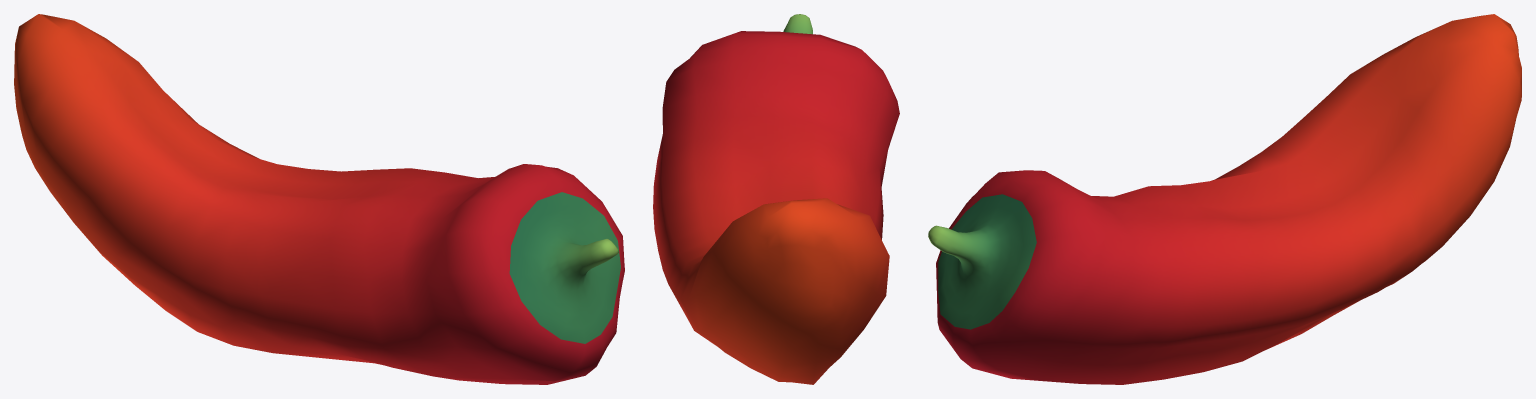
The model's file is RedPepper.fbx.
3 renders of one model, left to right at view 1: azimuth 30°, elevation 25°; view 2: azimuth 150°, elevation 25°; view 3: azimuth 270°, elevation 25°, orthographic. The views are drawn at different scales.
Parts seen in each view (by area): view 1: RedPepper; view 2: RedPepper; view 3: RedPepper.
Boxes of the visible parts, x1,y1,x2,y2 form: RedPepper: (14,14,624,384); RedPepper: (653,14,899,384); RedPepper: (928,14,1521,384).
Bounding box in the file's own units: 0.1947 × 0.1343 × 0.2642.
